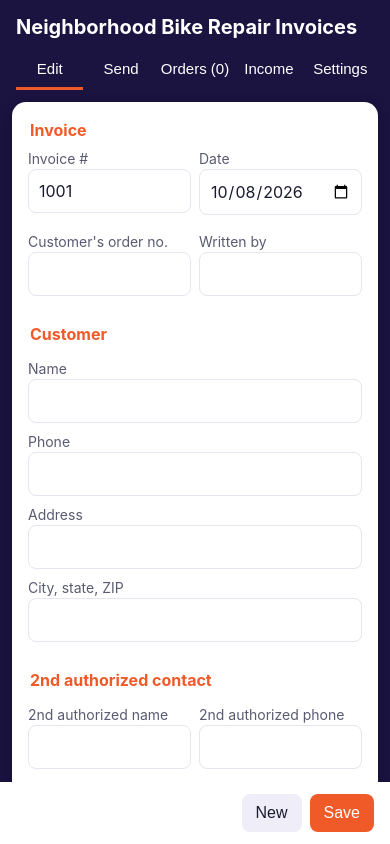
Scenario: Orders tab › pressing Enter in the box asks, and shows what went wrong when asking fails
The image size is (390, 844).
Click the tab "Orders (0)" at (195, 70), box [159,50,231,90]
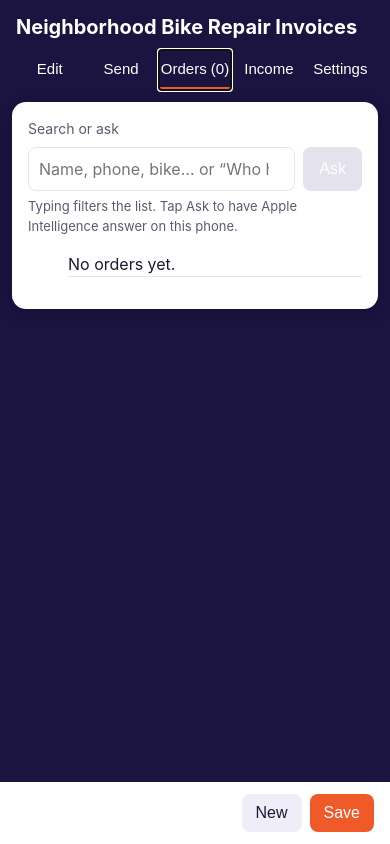
Type "anything" into the search field labelled "Search or ask" at (162, 169), box [28,147,295,191]
Then press Enter
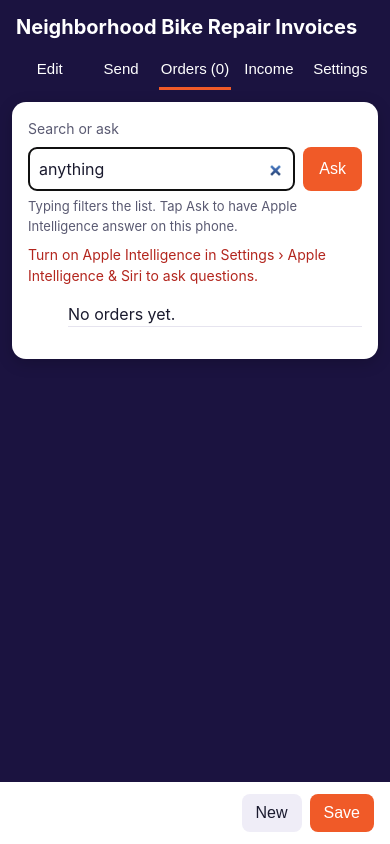
Expected: the message shows "Turn on Apple Intelligence", [28,246,326,284]
